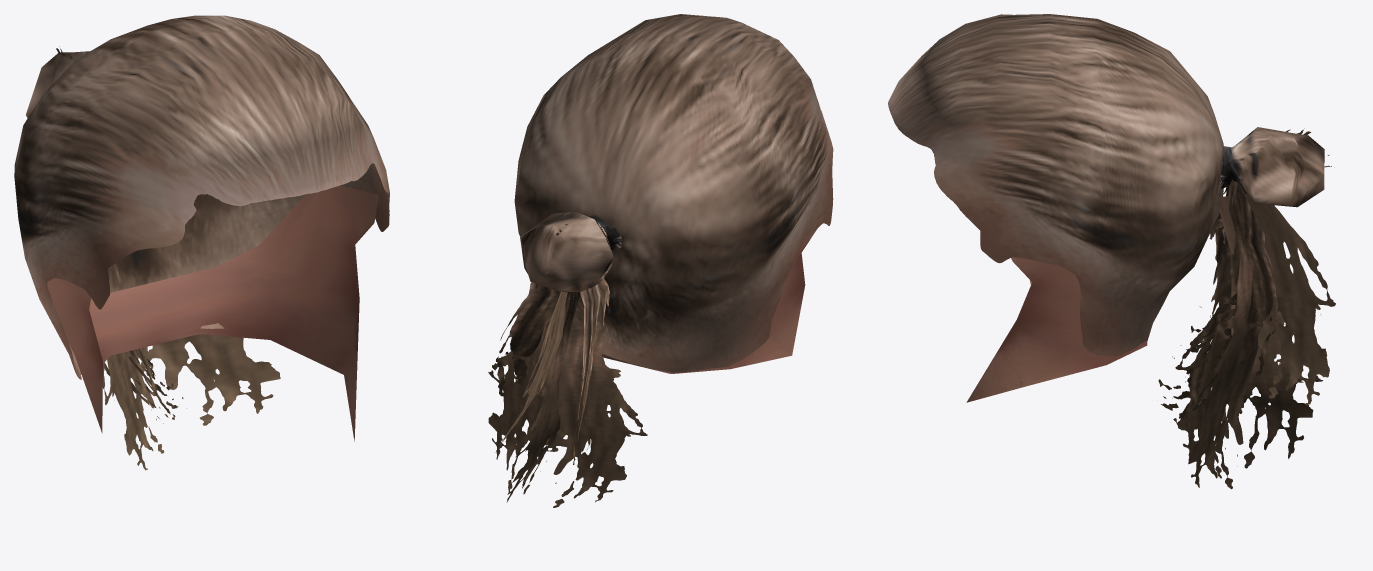
Rendered from nor-haaland.glb.
3 renders of one model, left to right at view 1: azimuth 30°, elevation 25°; view 2: azimuth 150°, elevation 25°; view 3: azimuth 270°, elevation 25°, orthographic. The views are drawn at different scales.
Visible parts, largest first — view 1: hair; view 2: hair; view 3: hair.
Boxes of the visible parts, <box> form: hair: <box>14,15,389,470</box>; hair: <box>488,14,833,507</box>; hair: <box>888,14,1335,489</box>.
Bounding box in the file's own units: 0.1783 × 0.2642 × 0.238.
Materials: 2 (2 with a texture image).
